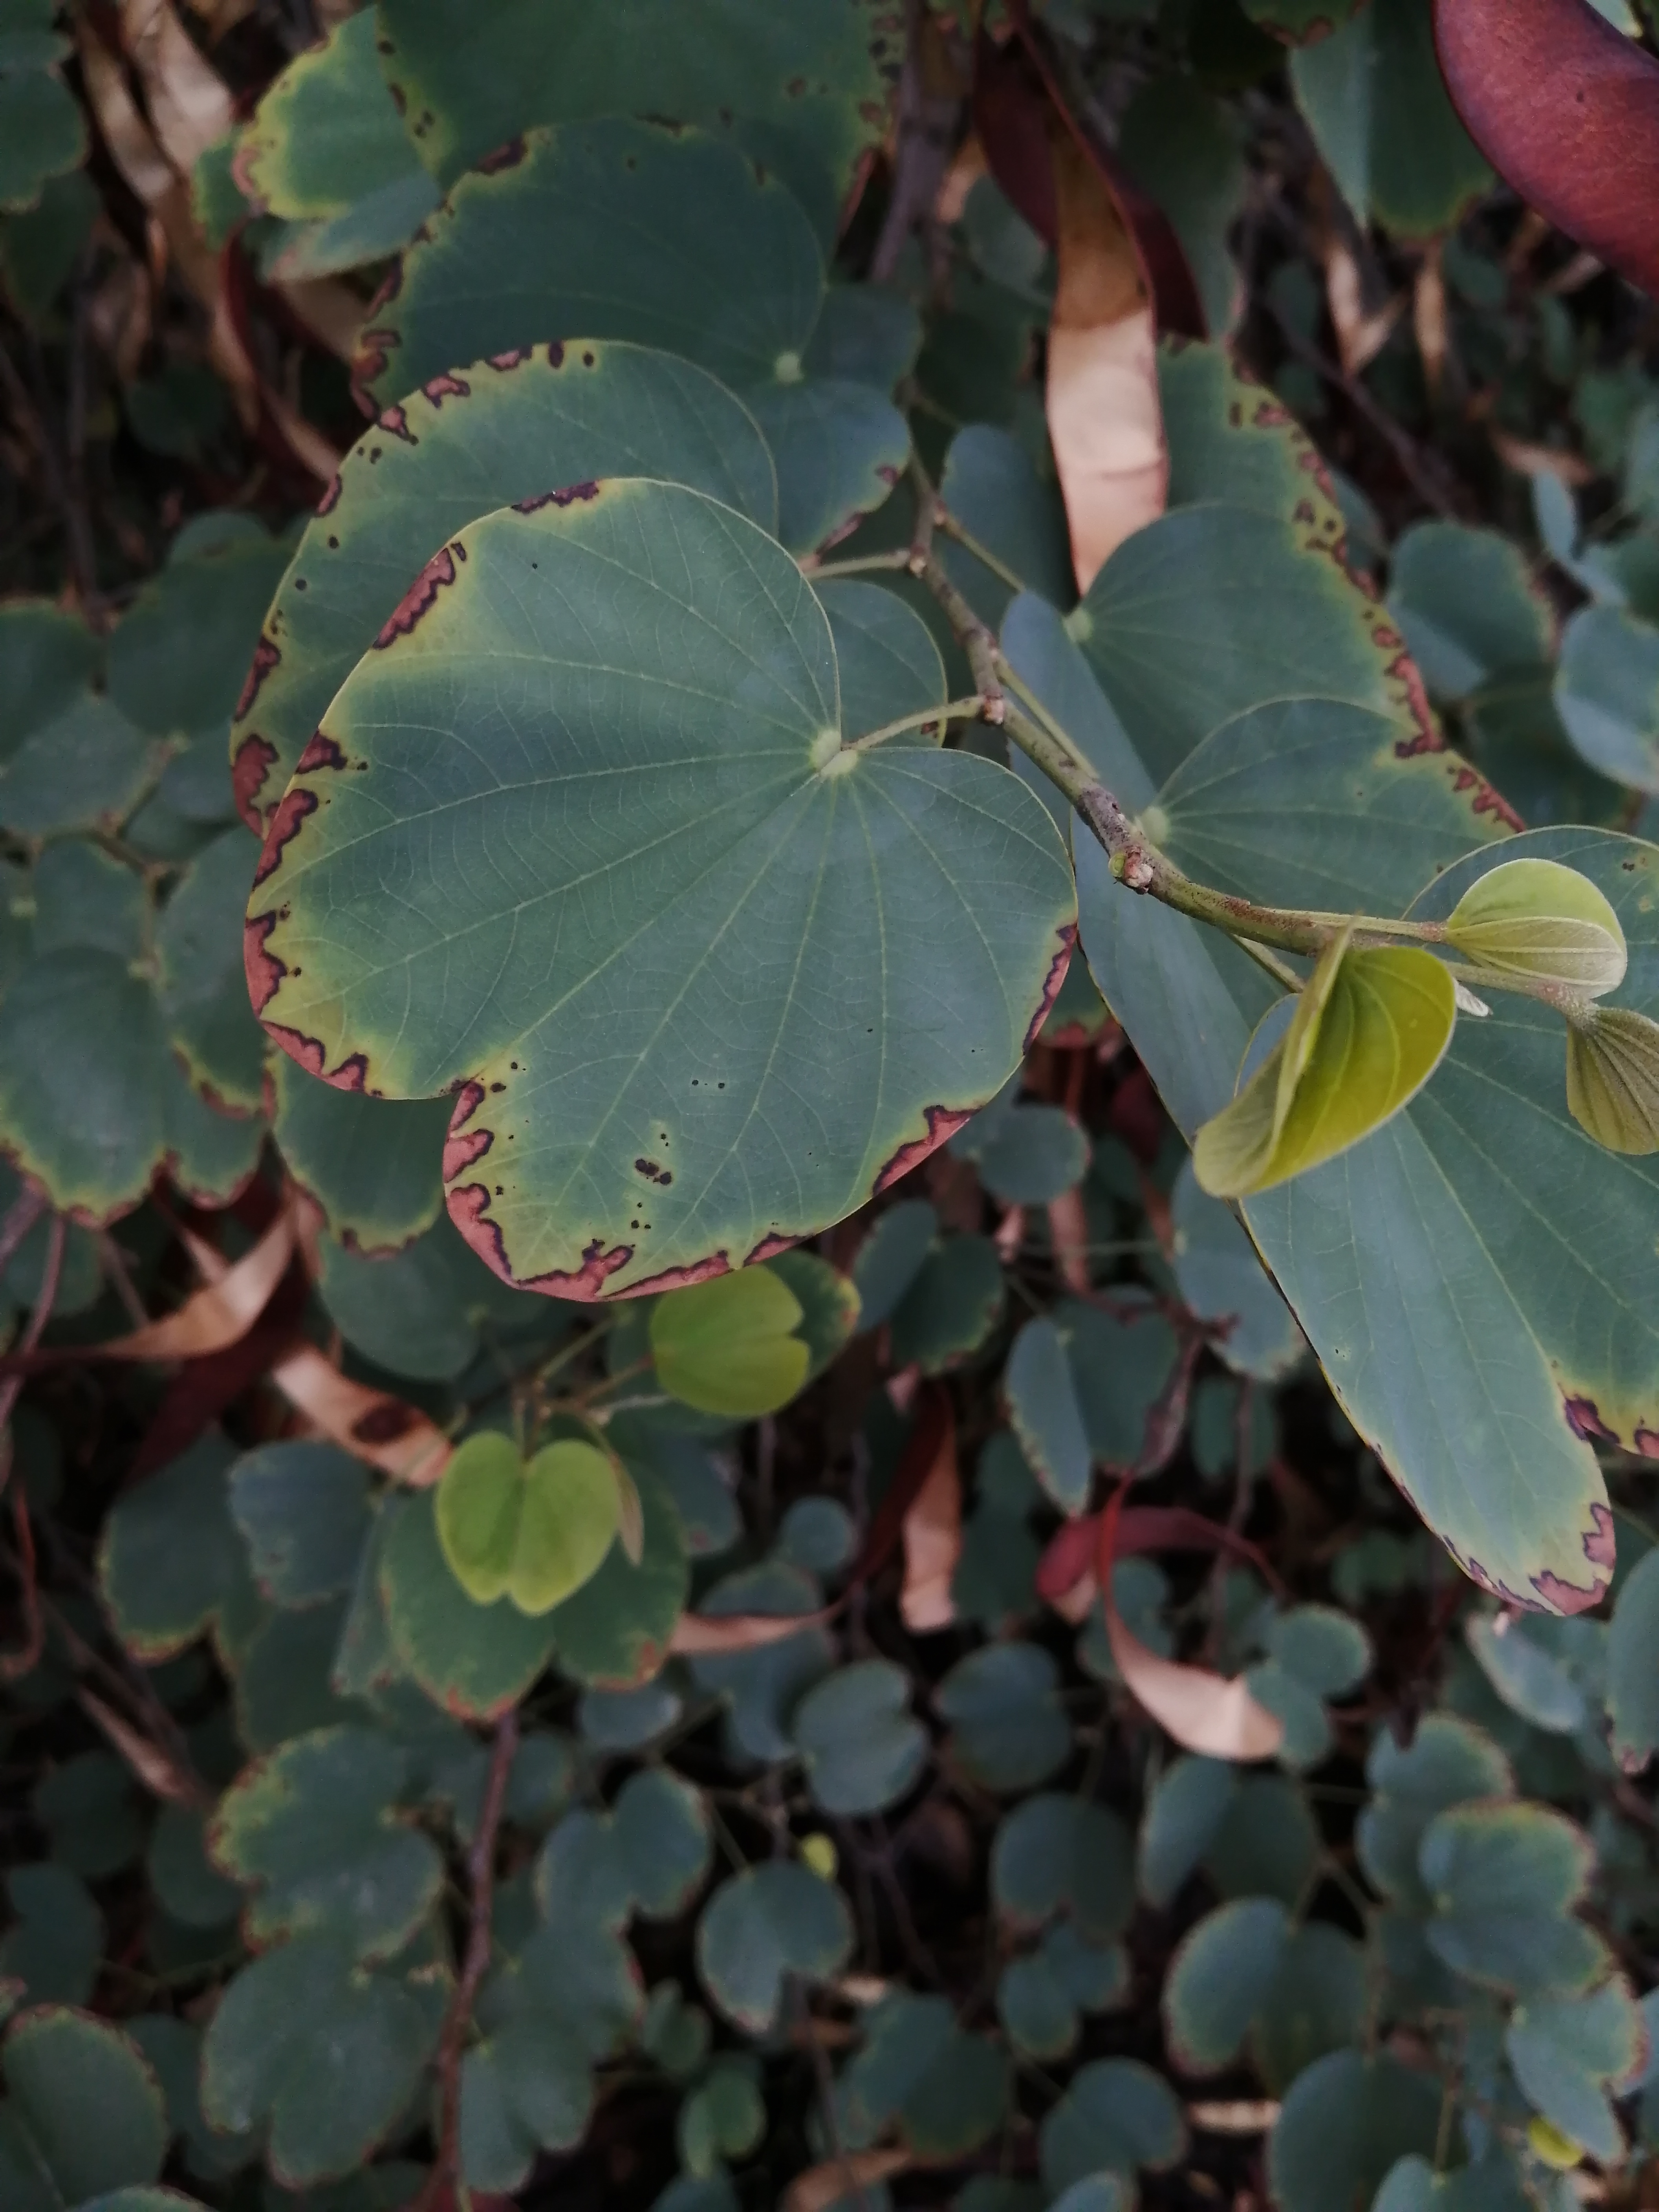nothealthy: (228, 493, 1091, 1324)
